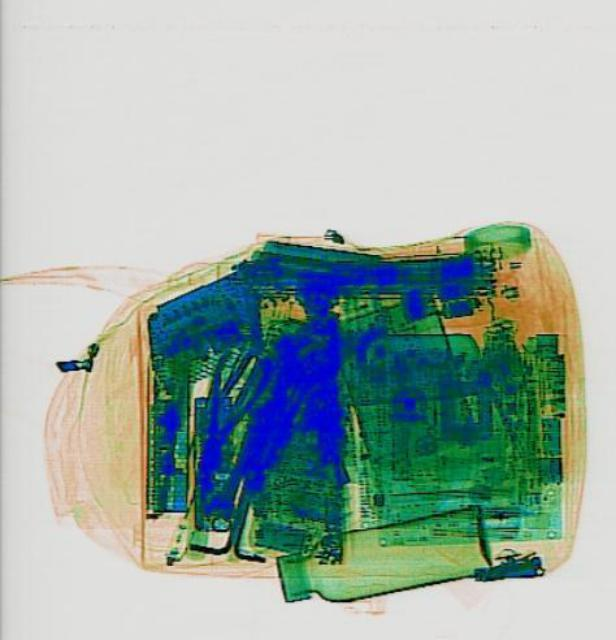Pliers: (176, 346, 269, 498)
